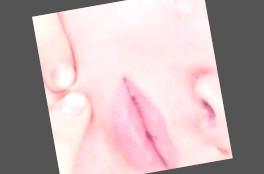Acne: (172, 118, 176, 123)
